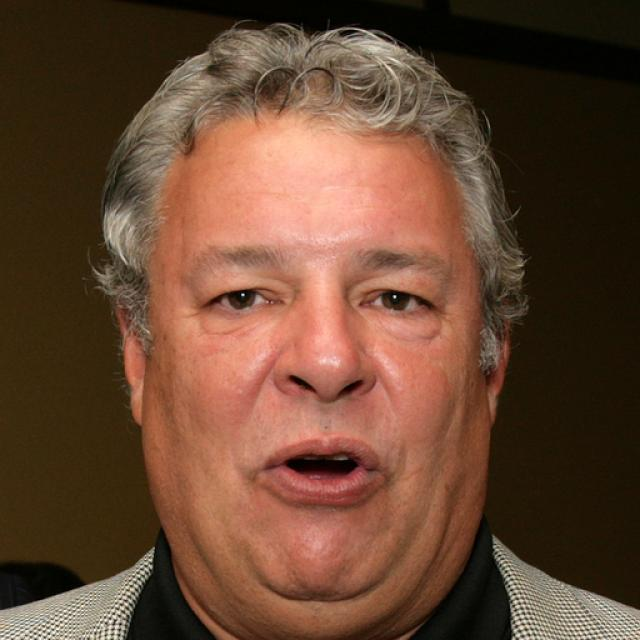disgust: (145, 110, 488, 601)
